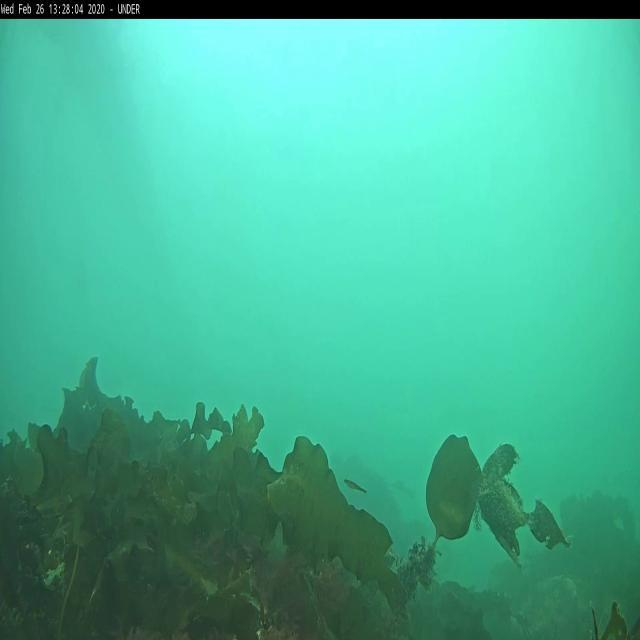fish: (344, 478, 366, 494)
